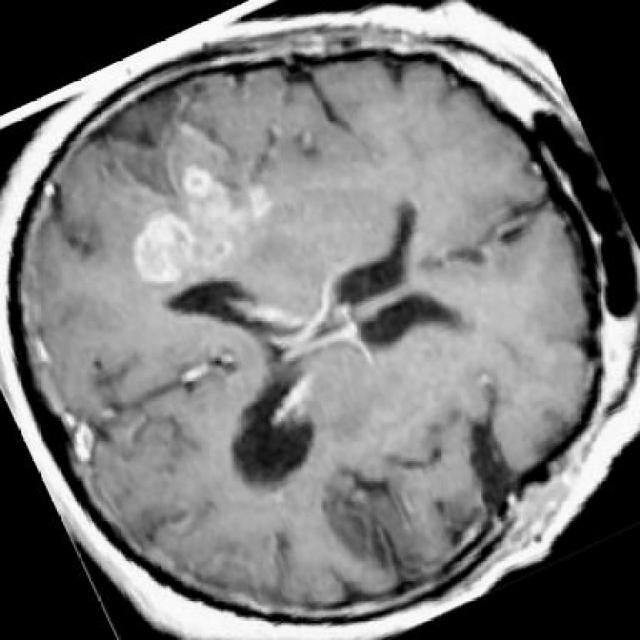Brain-Tumor: (324, 384, 532, 583), (107, 142, 286, 288)
